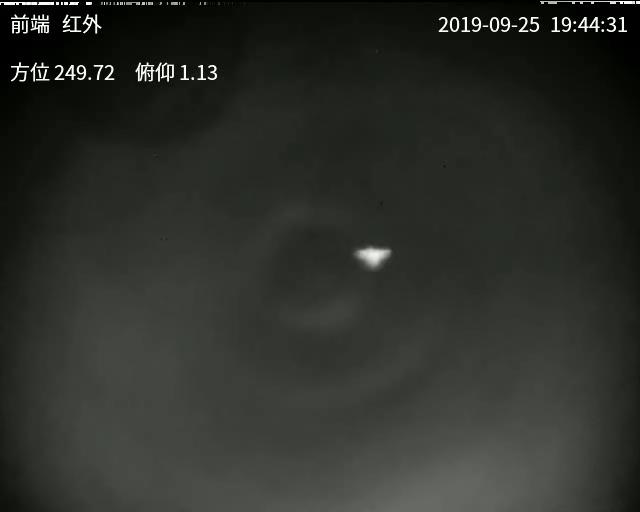uav: (344, 242, 392, 271)
